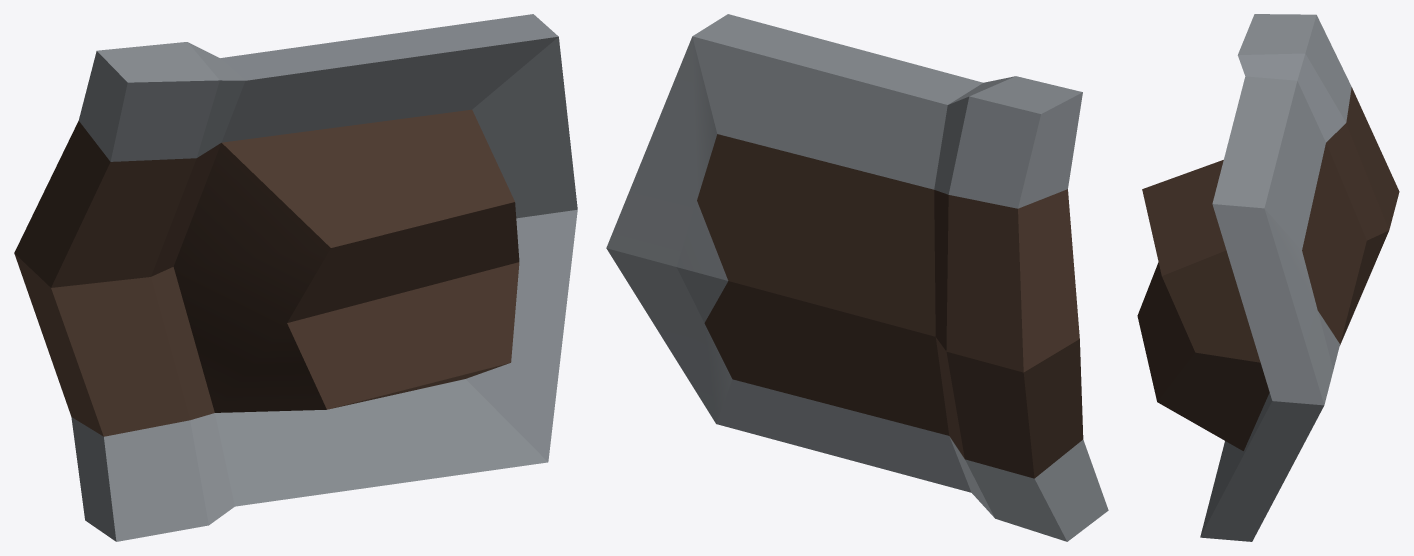
The model's file is Chr_ElbowAttachLeft_02_Static.fbx.
3 renders of one model, left to right at view 1: azimuth 30°, elevation 25°; view 2: azimuth 150°, elevation 25°; view 3: azimuth 270°, elevation 25°, orthographic. The views are drawn at different scales.
Parts seen in each view (by area): view 1: Chr_ElbowAttachLeft_02_Static; view 2: Chr_ElbowAttachLeft_02_Static; view 3: Chr_ElbowAttachLeft_02_Static.
Part boxes in pixels (<box>): Chr_ElbowAttachLeft_02_Static: <box>14,14,577,541</box>; Chr_ElbowAttachLeft_02_Static: <box>606,14,1108,541</box>; Chr_ElbowAttachLeft_02_Static: <box>1137,14,1399,541</box>.
Size of the model in its own units: 0.1253 by 0.1091 by 0.0689.
